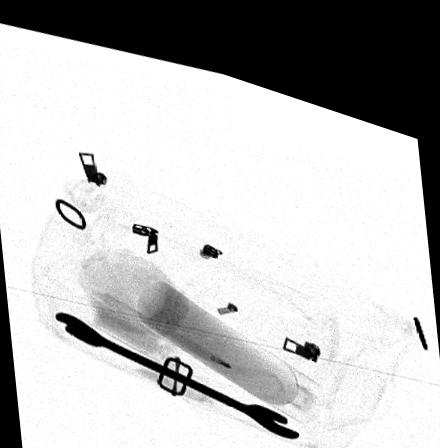Wrench: (51, 306, 298, 418)
